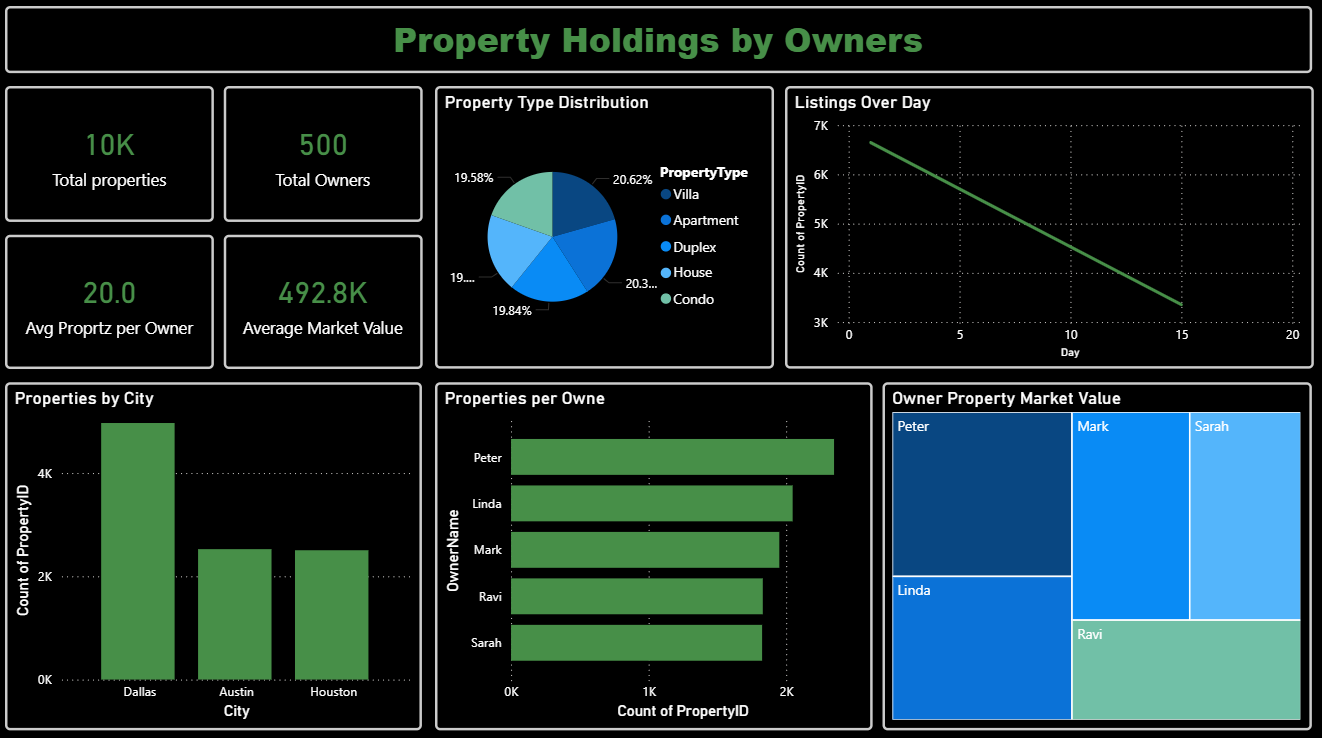

Layout of this report page (visuals, bound fields, positions):
{"tool":"powerbi","page":{"name":"owners-property","canvas":[1280,720],"ordinal":10},"visuals":[{"type":"card","fields":{"Values":["Owners.Total Owners"]},"box":[220.7,86.6,191.9,131.3],"z":0},{"type":"textbox","box":[9.8,9.8,1262,64.8],"z":1000},{"type":"card","fields":{"Values":["Owners.Average Properties per Owner"]},"box":[10.1,230.8,202,129.8],"z":2000},{"type":"card","fields":{"Values":["Avg(Properties.MarketValue)"]},"box":[220.7,230.8,191.9,129.8],"z":3000},{"type":"card","fields":{"Values":["Owners.Total properties"]},"box":[10.1,86.6,202,131.3],"z":4000},{"type":"pieChart","title":"Property Type Distribution","fields":{"Category":["Properties.PropertyType"],"Y":["CountNonNull(Properties.PropertyID)"]},"box":[424.2,86.6,327.5,272.7],"z":5000},{"type":"lineChart","title":"Listings Over Day","fields":{"Category":["Properties.ListingDate.Variation.Date Hierarchy.Day"],"Y":["Count(Properties.PropertyID)"]},"box":[762,87,510,273],"z":6000},{"type":"barChart","title":"Properties per Owne","fields":{"Category":["Owners.OwnerName"],"Y":["CountNonNull(Properties.PropertyID)"]},"box":[424.2,372.2,422.7,336.2],"z":7000},{"type":"treemap","title":"Owner Property Market Value","fields":{"Group":["Owners.OwnerName"],"Values":["Sum(Properties.MarketValue)"]},"box":[857,372.2,414.1,336.2],"z":8000},{"type":"columnChart","title":"Properties by City","fields":{"Category":["Properties.City"],"Y":["CountNonNull(Properties.PropertyID)"]},"box":[10.1,372.2,402.5,336.2],"z":9000}]}

Visuals, with their boxes in screenshot pixels (x1, y1, x2, y2), scaled from the page's 1280x720 canvas onto the 1322x738 screenshot:
card - Owners.Total Owners: Rect(228, 89, 426, 223)
textbox: Rect(10, 10, 1314, 76)
card - Owners.Average Properties per Owner: Rect(10, 237, 219, 370)
card - Avg(Properties.MarketValue): Rect(228, 237, 426, 370)
card - Owners.Total properties: Rect(10, 89, 219, 223)
"Property Type Distribution" pieChart: Rect(438, 89, 776, 368)
"Listings Over Day" lineChart: Rect(787, 89, 1314, 369)
"Properties per Owne" barChart: Rect(438, 382, 875, 726)
"Owner Property Market Value" treemap: Rect(885, 382, 1313, 726)
"Properties by City" columnChart: Rect(10, 382, 426, 726)
